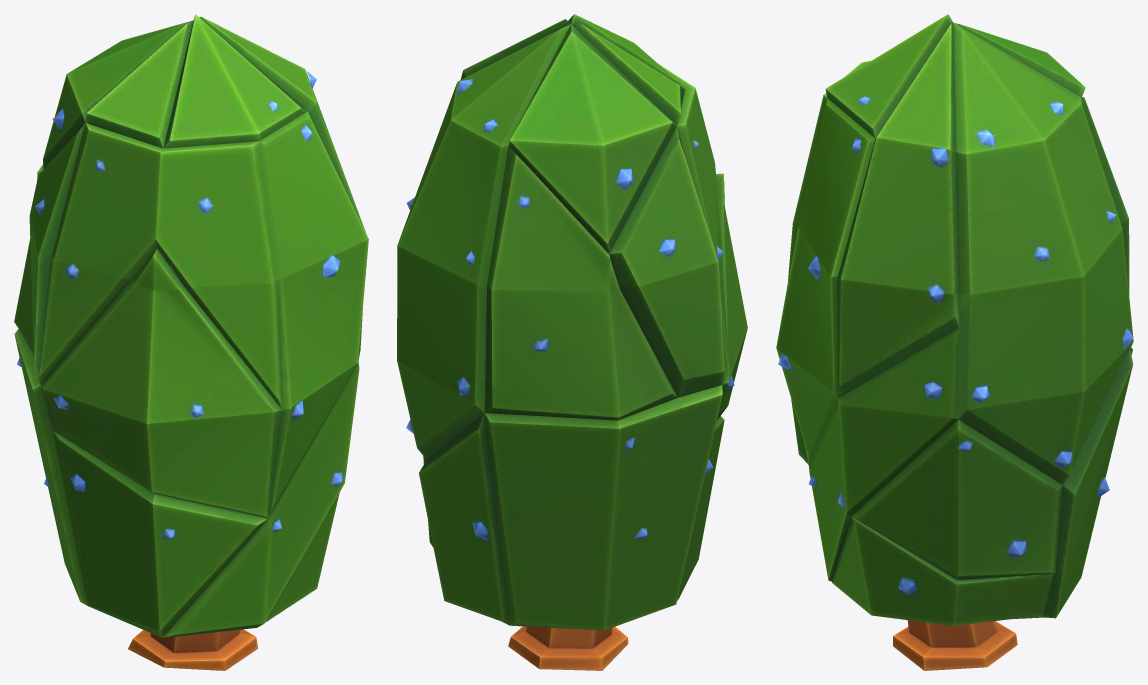
The model's file is obj_bush02_base.gltf.
3 renders of one model, left to right at view 1: azimuth 30°, elevation 25°; view 2: azimuth 150°, elevation 25°; view 3: azimuth 270°, elevation 25°, orthographic.
Parts seen in each view (by area): view 1: obj_bush02_base; view 2: obj_bush02_base; view 3: obj_bush02_base.
Boxes of the visible parts, x1,y1,x2,y2 form: obj_bush02_base: [14, 14, 368, 670]; obj_bush02_base: [397, 14, 747, 670]; obj_bush02_base: [776, 14, 1133, 670].
Size of what is drawn, in the model's own units: 1.2 by 2.35 by 1.2.
Materials: 1 (1 with a texture image).
